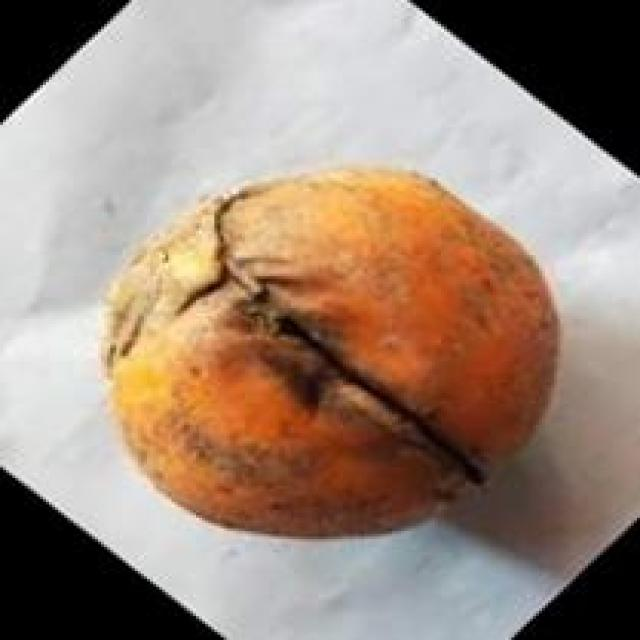damaged: (101, 167, 554, 534)
